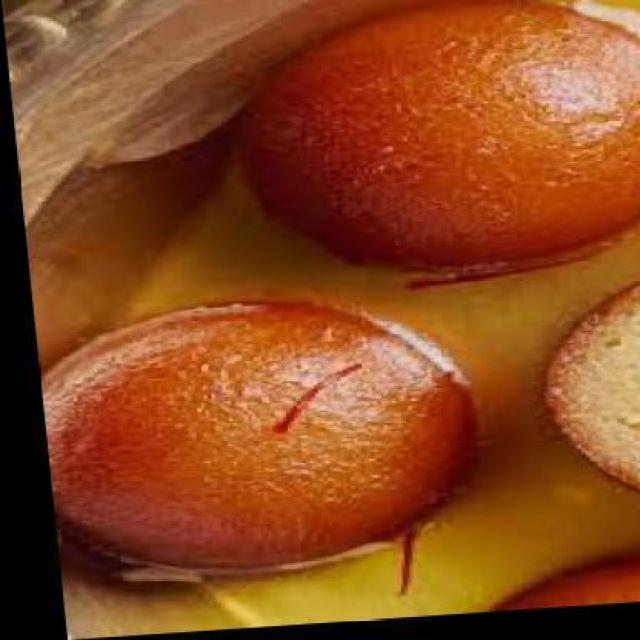gulab_jamun: (26, 295, 479, 580), (220, 0, 640, 292), (475, 557, 640, 617)
